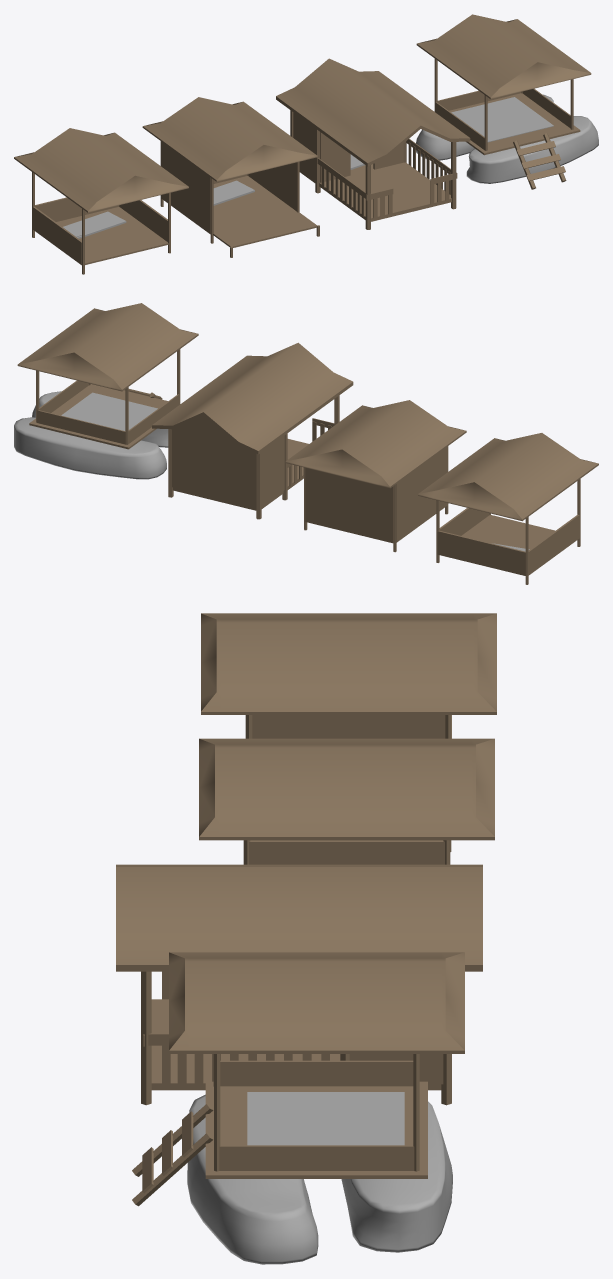
Rendered from MS_Hut-1+2+3+4_Square(Set)_01.fbx.
The picture shows the model from 3 angles, top to bottom: view 1: azimuth 30°, elevation 25°; view 2: azimuth 150°, elevation 25°; view 3: azimuth 270°, elevation 25°; orthographic projection. The views are drawn at different scales.
Parts seen in each view (by area): view 1: pasted__pasted__pCube6; view 2: pasted__pasted__pCube6; view 3: pasted__pasted__pCube6.
Boxes of the visible parts, box(x1,y1,x2,y2) form: pasted__pasted__pCube6: box(14, 14, 598, 274); pasted__pasted__pCube6: box(14, 303, 598, 584); pasted__pasted__pCube6: box(116, 613, 496, 1264).
Size of the model in its own units: 24.23 by 5.15 by 7.6.
